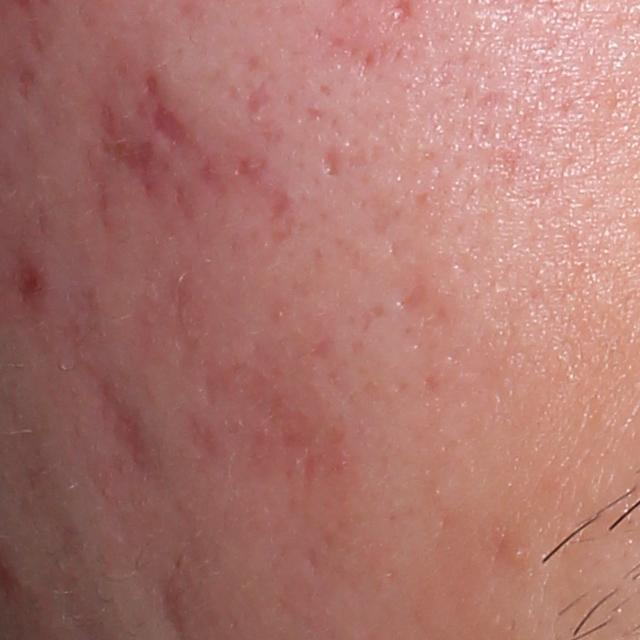atrophic_scar: (189, 370, 350, 481), (100, 373, 158, 475), (101, 110, 158, 192), (155, 575, 190, 636), (153, 109, 196, 149), (226, 150, 270, 188), (236, 87, 276, 125), (315, 146, 345, 179), (395, 289, 430, 316), (140, 68, 165, 103), (15, 65, 39, 98)
comedo: (506, 540, 530, 564)
